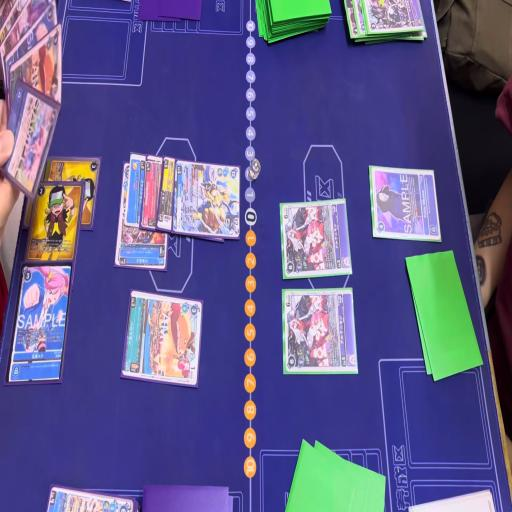card: (4, 261, 76, 391), (120, 288, 204, 389), (0, 83, 60, 206), (280, 286, 362, 375), (276, 201, 352, 285), (24, 154, 102, 234), (368, 160, 442, 242), (0, 1, 59, 90), (174, 160, 238, 242), (5, 22, 62, 113), (35, 183, 82, 291), (0, 0, 53, 70), (114, 225, 172, 274), (46, 481, 135, 512), (360, 0, 422, 37), (139, 148, 166, 230), (125, 152, 148, 229), (157, 157, 177, 231)
